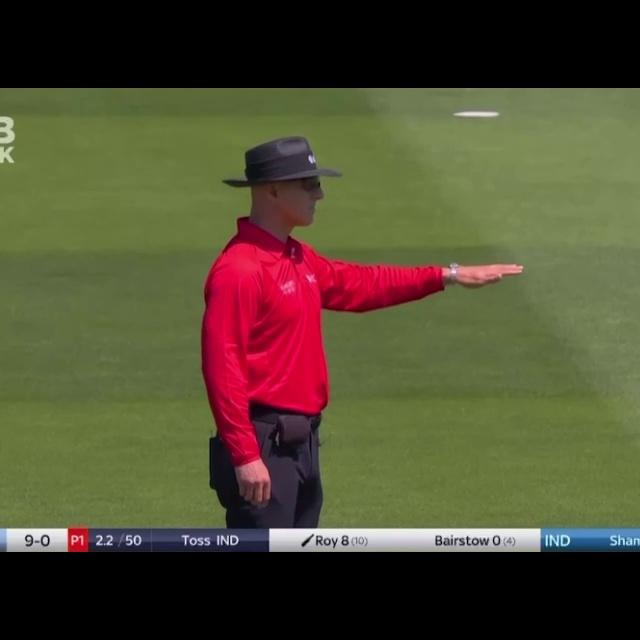umpire: (177, 125, 532, 525)
